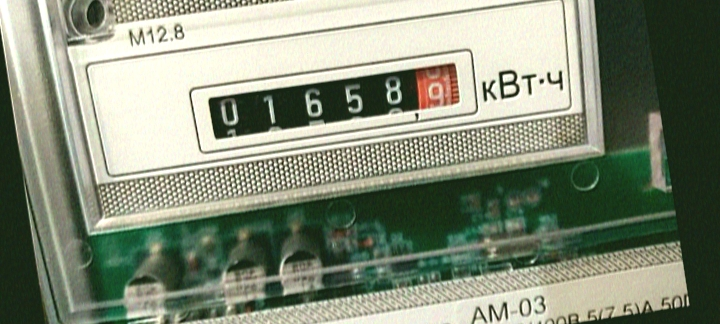0: (217, 95, 241, 128)
1: (260, 92, 282, 126)
5: (341, 81, 367, 115)
6: (301, 84, 326, 120)
8: (381, 72, 406, 107)
9: (423, 80, 448, 111)
screen: (178, 37, 487, 164)
